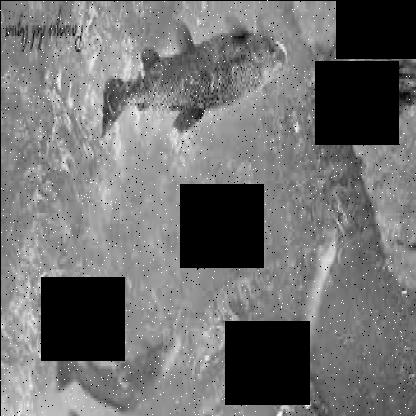fish: (100, 16, 291, 146)
